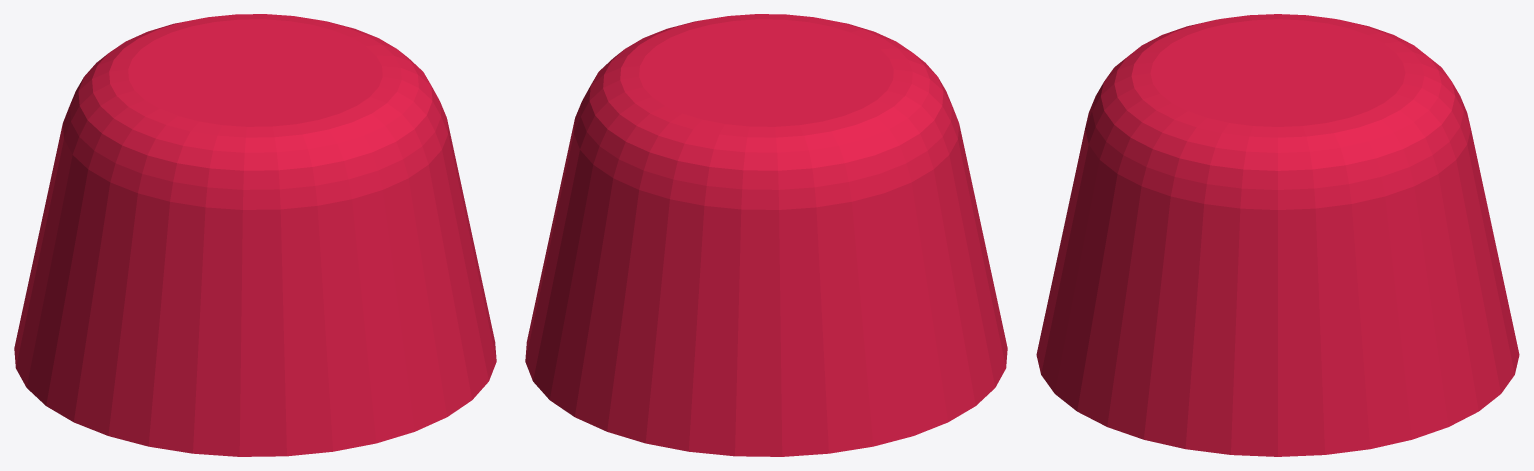
File: redGem.fbx
The picture shows the model from 3 angles, left to right: view 1: azimuth 30°, elevation 25°; view 2: azimuth 150°, elevation 25°; view 3: azimuth 270°, elevation 25°; orthographic projection.
Visible parts, largest first — view 1: Cylinder; view 2: Cylinder; view 3: Cylinder.
Part boxes in pixels (x1,y1,x2,y2): Cylinder: (14, 14, 496, 456); Cylinder: (525, 14, 1007, 456); Cylinder: (1036, 14, 1519, 456).
Size of the model in its own units: 245 by 158 by 245.
